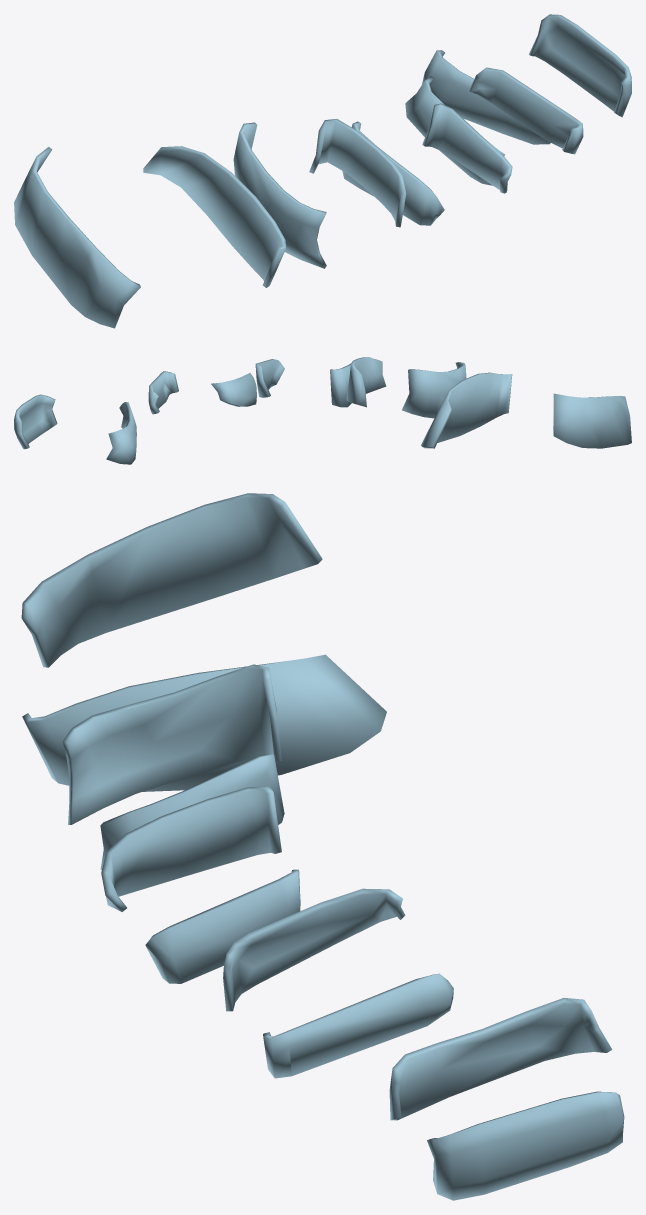
The model's file is articulacoes-collateral-metatarsophalangeal-ligaments-l.glb.
The picture shows the model from 3 angles, top to bottom: view 1: azimuth 30°, elevation 25°; view 2: azimuth 150°, elevation 25°; view 3: azimuth 270°, elevation 25°; orthographic projection. The views are drawn at different scales.
Parts seen in each view (by area): view 1: Collateral metatarsophalangeal ligaments.l; view 2: Collateral metatarsophalangeal ligaments.l; view 3: Collateral metatarsophalangeal ligaments.l.
Part boxes in pixels (x1,y1,x2,y2): Collateral metatarsophalangeal ligaments.l: (14, 14, 631, 328); Collateral metatarsophalangeal ligaments.l: (14, 357, 631, 464); Collateral metatarsophalangeal ligaments.l: (21, 493, 624, 1200).
Bounding box in the file's own units: 0.0821 × 0.0189 × 0.0424.
